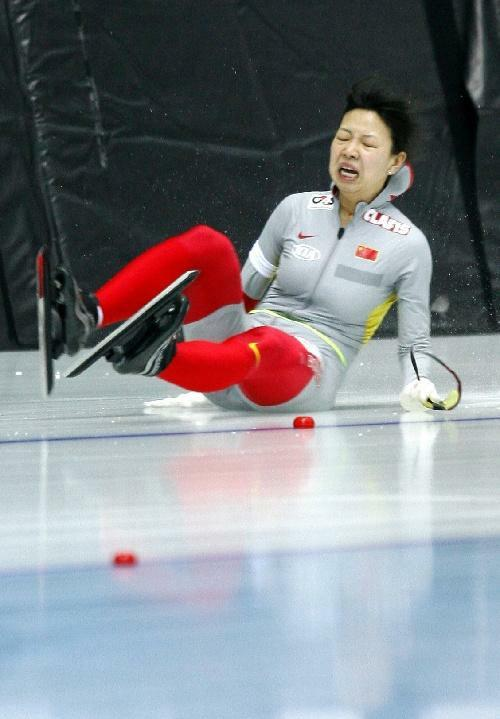bending: (15, 79, 471, 434)
